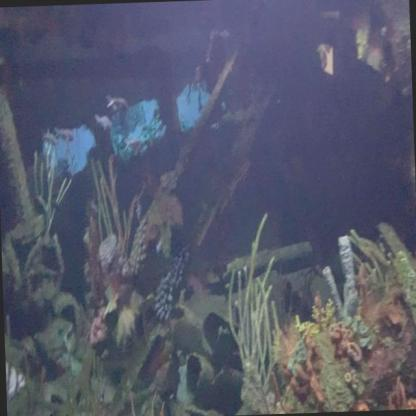fish: (104, 91, 130, 115), (121, 136, 145, 158), (92, 111, 113, 133), (40, 127, 60, 149), (52, 125, 75, 143)
